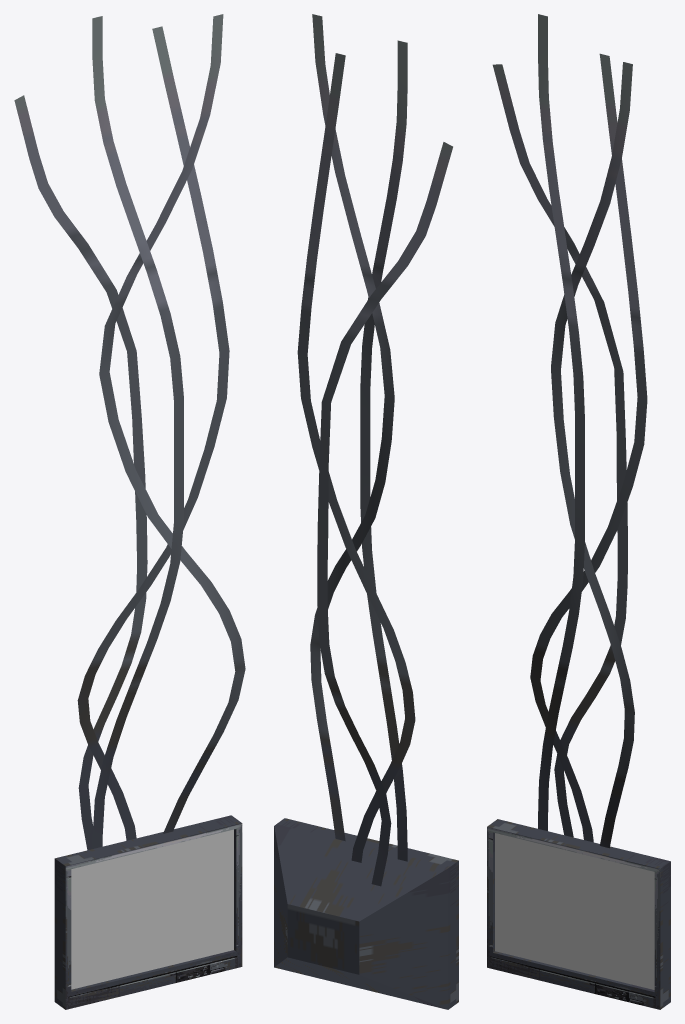
3 renders of one model, left to right at view 1: azimuth 30°, elevation 25°; view 2: azimuth 150°, elevation 25°; view 3: azimuth 330°, elevation 25°, orthographic.
Visible parts, largest first — view 1: Wires, TV; view 2: Wires, TV; view 3: Wires, TV.
Part boxes in pixels (x1,y1,x2,y2): Wires: (14, 14, 245, 860); TV: (54, 815, 242, 1009); Wires: (297, 14, 452, 886); TV: (274, 818, 458, 1009); Wires: (492, 14, 647, 856); TV: (487, 819, 670, 1009).
Size of the model in its own units: 248 by 1155 by 138.
